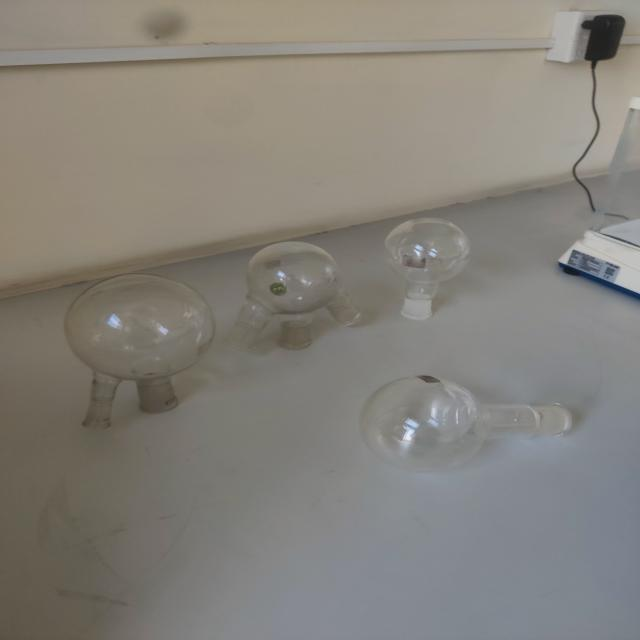Round_Bottom_Flask_Borosilicate_Glass_1_Neck: (335, 335, 606, 483), (366, 176, 506, 340)
Round_Bottom_Flask_Borosilicate_Glass_2_Neck: (50, 255, 222, 445)
Round_Bottom_Flask_Borosilicate_Glass_3_Neck: (207, 220, 386, 370)
